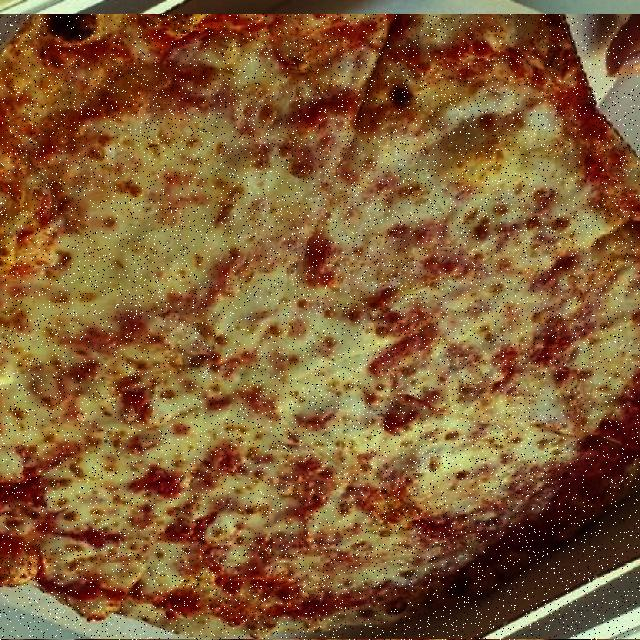Pizza: (0, 14, 640, 640)
